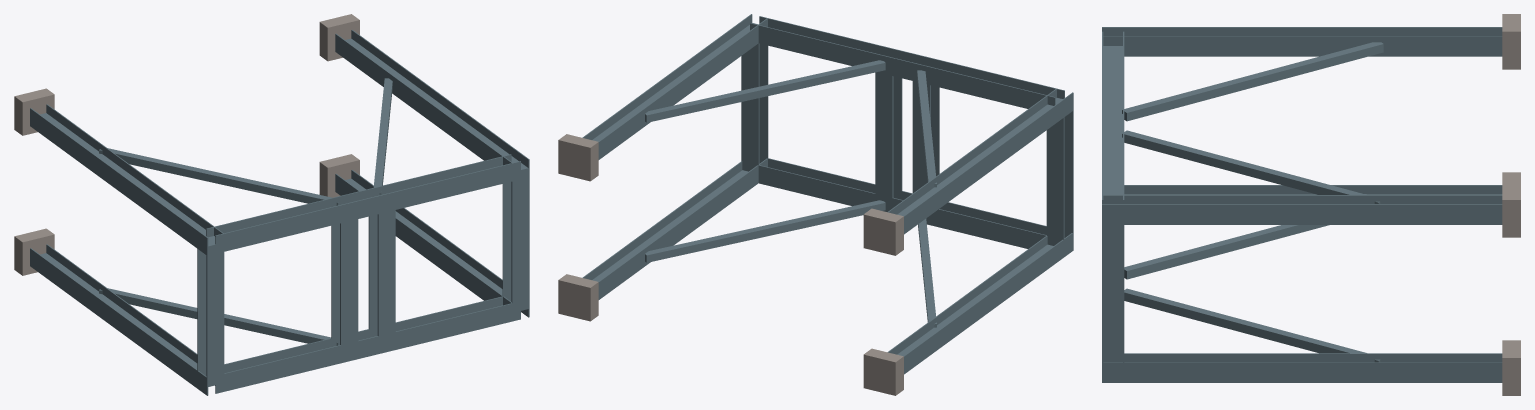
Rendered from C41B04-frame.obj.
The picture shows the model from 3 angles, left to right: view 1: azimuth 30°, elevation 25°; view 2: azimuth 150°, elevation 25°; view 3: azimuth 270°, elevation 25°; orthographic projection. The views are drawn at different scales.
Parts seen in each view (by area): view 1: 钢架_GZ1柱翼缘, 钢架_GL1横梁翼缘, 钢架_GL1纵梁翼缘, 钢架_ZC1斜撑, 基础_柱脚墩, 钢架_GZ1柱腹板, 钢架_GL1纵梁腹板; view 2: 钢架_GZ1柱翼缘, 钢架_GL1横梁翼缘, 钢架_GL1纵梁翼缘, 钢架_ZC1斜撑, 基础_柱脚墩, 钢架_GZ1柱腹板; view 3: 钢架_GZ1柱翼缘, 钢架_ZC1斜撑, 基础_柱脚墩, 钢架_GL1横梁腹板, 钢架_GL1纵梁腹板, 钢架_GL1横梁翼缘, 钢架_GL1纵梁翼缘.
Boxes of the visible parts, <box> form: 钢架_GZ1柱翼缘: <box>30,29,529,395</box>; 钢架_GL1横梁翼缘: <box>206,154,520,393</box>; 钢架_GL1纵梁翼缘: <box>197,169,529,386</box>; 钢架_ZC1斜撑: <box>99,78,392,345</box>; 基础_柱脚墩: <box>14,14,359,275</box>; 钢架_GZ1柱腹板: <box>40,38,528,386</box>; 钢架_GL1纵梁腹板: <box>206,181,511,375</box>; 钢架_GZ1柱翼缘: <box>582,14,1073,374</box>; 钢架_GL1横梁翼缘: <box>750,16,1064,248</box>; 钢架_GL1纵梁翼缘: <box>741,43,1073,248</box>; 钢架_ZC1斜撑: <box>645,60,936,327</box>; 基础_柱脚墩: <box>558,134,903,395</box>; 钢架_GZ1柱腹板: <box>592,23,1062,356</box>; 钢架_GZ1柱翼缘: <box>1102,27,1502,382</box>; 钢架_ZC1斜撑: <box>1122,42,1383,362</box>; 基础_柱脚墩: <box>1502,14,1520,395</box>; 钢架_GL1横梁腹板: <box>1103,46,1122,194</box>; 钢架_GL1纵梁腹板: <box>1103,225,1122,362</box>; 钢架_GL1横梁翼缘: <box>1102,31,1124,203</box>; 钢架_GL1纵梁翼缘: <box>1102,215,1124,362</box>.
Size of the model in its own units: 4.72 by 2.33 by 4.5.
